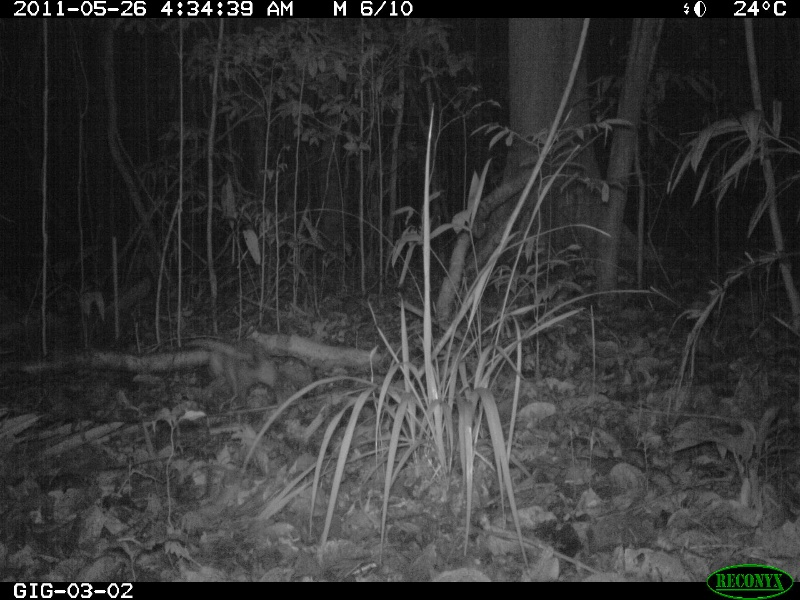opossum: (185, 332, 280, 408)
